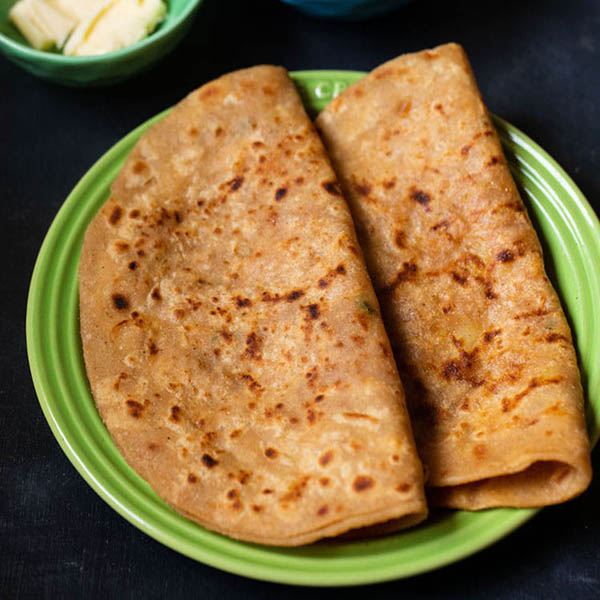aloo_paratha: (71, 40, 600, 551)
